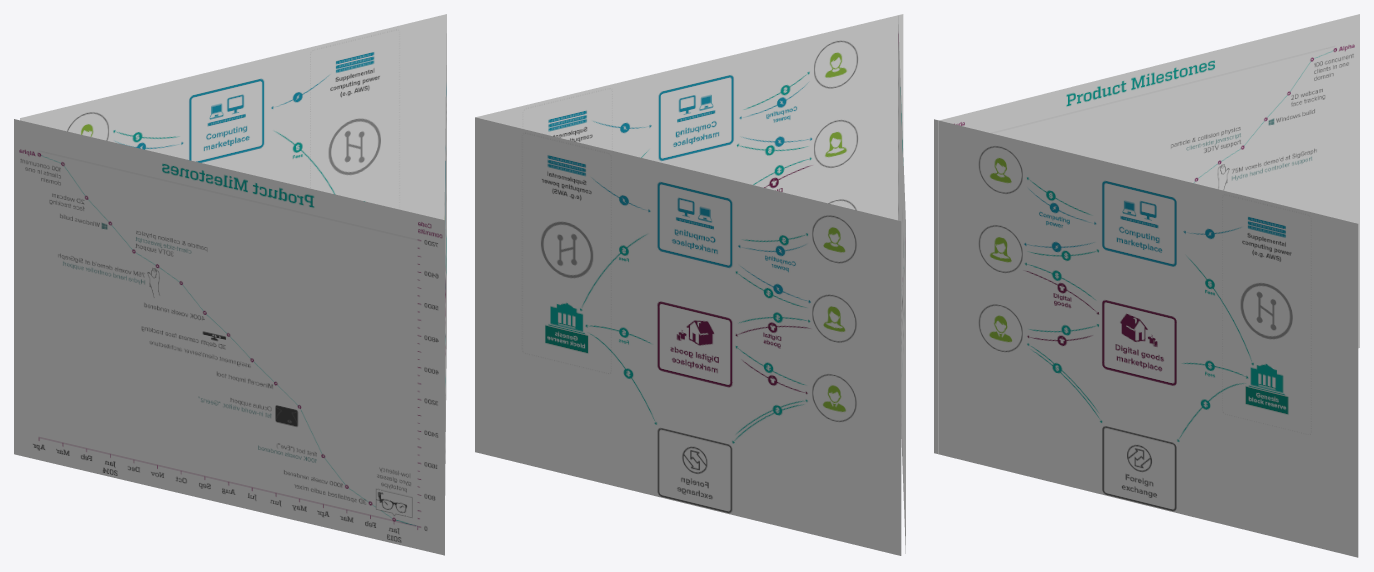
The model's file is presentation.fbx.
3 views of the same model, side by side, from view 1: azimuth 30°, elevation 25°; view 2: azimuth 150°, elevation 25°; view 3: azimuth 270°, elevation 25° (orthographic).
Parts seen in each view (by area): view 1: hifi-product-milestones; view 2: hifi-product-milestones; view 3: hifi-product-milestones.
Boxes of the visible parts, x1,y1,x2,y2 form: hifi-product-milestones: (14, 14, 446, 555); hifi-product-milestones: (475, 14, 905, 555); hifi-product-milestones: (934, 14, 1359, 557).
Bounding box in the file's own units: 1.35 × 1 × 1.16.
Materials: 3 (3 with a texture image).
